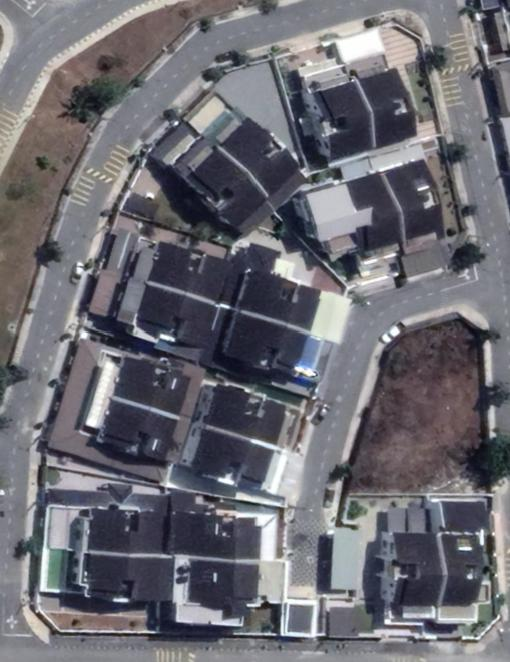building: (217, 118, 306, 211), (186, 147, 274, 235), (308, 173, 405, 251), (224, 310, 309, 373), (192, 426, 275, 490), (236, 270, 320, 333), (206, 385, 288, 447), (147, 242, 228, 304), (314, 81, 375, 161), (383, 161, 444, 241), (136, 282, 215, 343), (98, 398, 177, 459), (113, 357, 190, 418), (357, 69, 415, 148), (187, 557, 259, 619), (174, 513, 261, 562), (86, 552, 173, 600), (87, 509, 173, 556), (394, 533, 447, 605), (439, 534, 483, 605)
